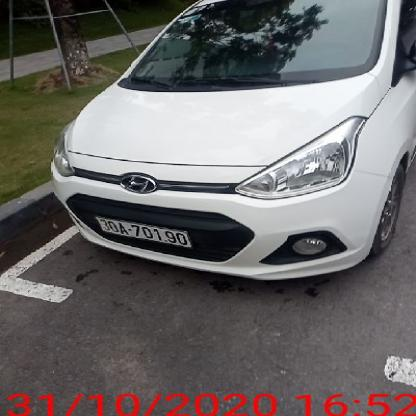biensoxe: (95, 210, 191, 256)
